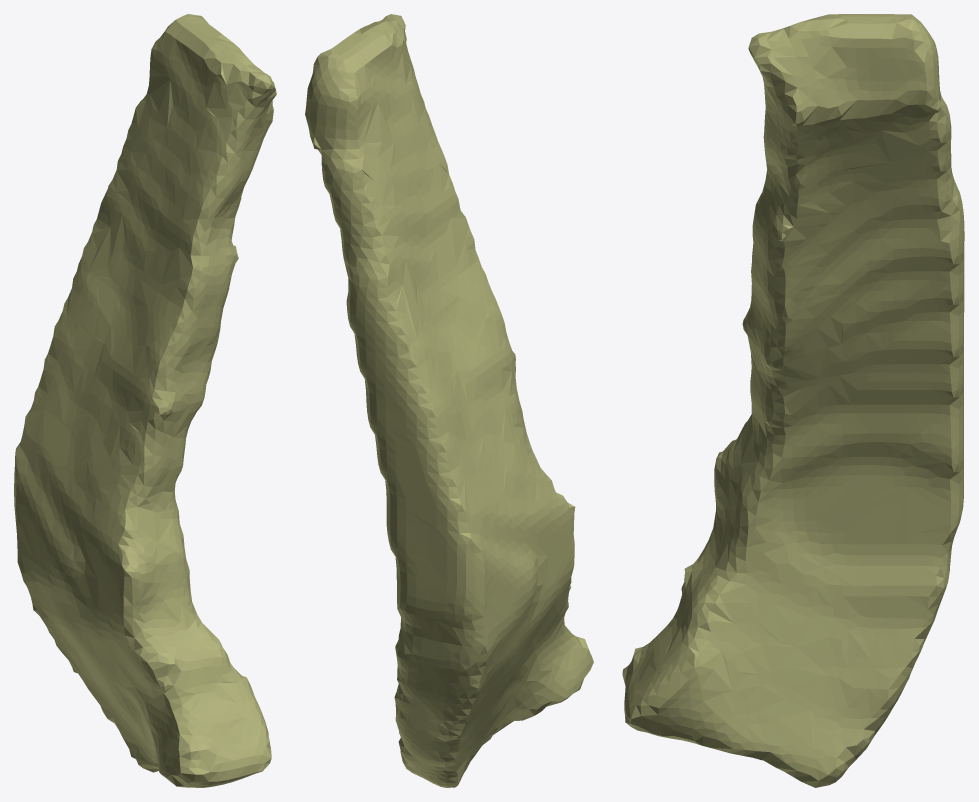
Rendered from Model_10068_LH__Area_35_of_cortex_(A35).obj.
3 views of the same model, side by side, from view 1: azimuth 30°, elevation 25°; view 2: azimuth 150°, elevation 25°; view 3: azimuth 270°, elevation 25° (orthographic). The views are drawn at different scales.
Bounding box in the file's own units: 2 × 6.96 × 2.7.
